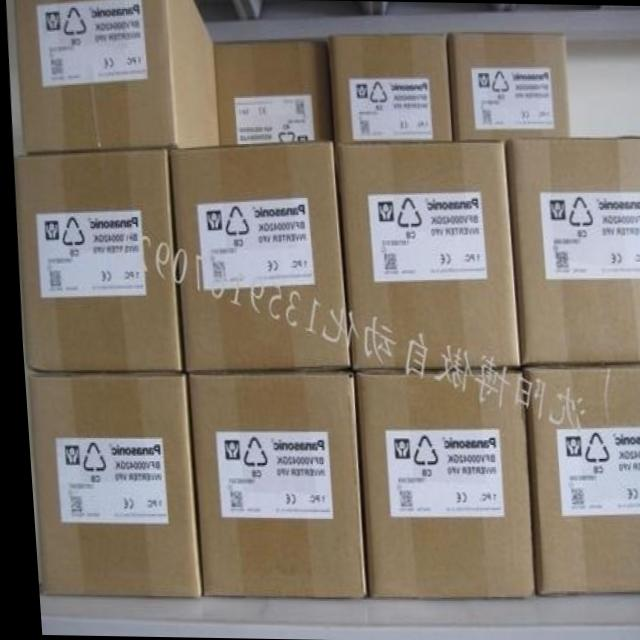box: (333, 140, 515, 370), (348, 373, 528, 598), (168, 143, 344, 373), (182, 373, 359, 599), (23, 376, 194, 595), (11, 149, 177, 373), (15, 0, 215, 153), (506, 135, 640, 363), (518, 366, 640, 593), (328, 31, 452, 143), (448, 29, 570, 139), (212, 36, 333, 145)
